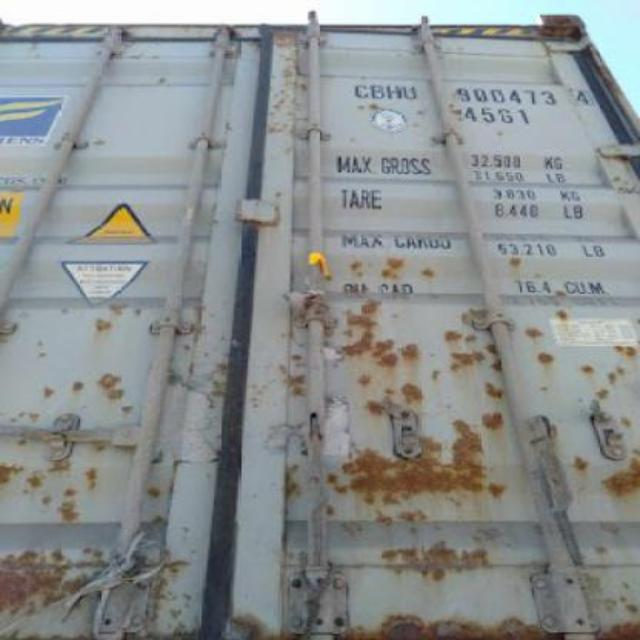0: (474, 87, 488, 103), (490, 90, 506, 102)
3: (542, 89, 558, 105)
4: (572, 90, 590, 102), (510, 87, 520, 103)
7: (524, 89, 540, 105)
9: (456, 86, 472, 100)
B: (372, 84, 386, 98)
C: (354, 85, 370, 98)
H: (388, 84, 404, 96)
U: (404, 83, 418, 99)
